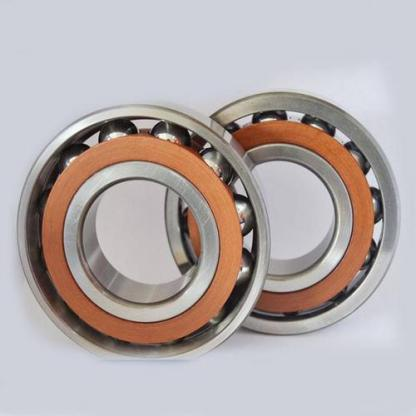FOD: (14, 102, 252, 366), (161, 85, 405, 338)
